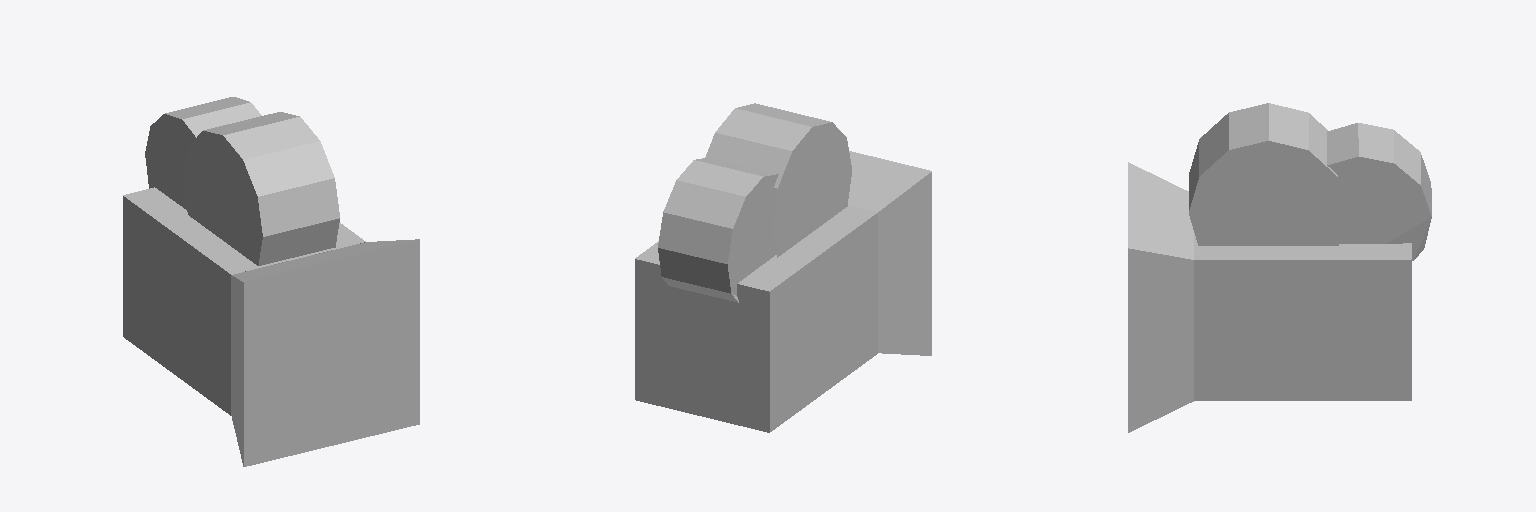
Rendered from camera.obj.
The picture shows the model from 3 angles: view 1: azimuth 30°, elevation 25°; view 2: azimuth 150°, elevation 25°; view 3: azimuth 270°, elevation 25°; orthographic projection.
Parts seen in each view (by area): view 1: Cube.003; view 2: Cube.003; view 3: Cube.003.
Part boxes in pixels (bbox=[...]): Cube.003: bbox=[123, 97, 419, 466]; Cube.003: bbox=[635, 103, 931, 432]; Cube.003: bbox=[1128, 103, 1431, 432].
Size of the model in its own units: 3.4 by 4.94 by 5.07.